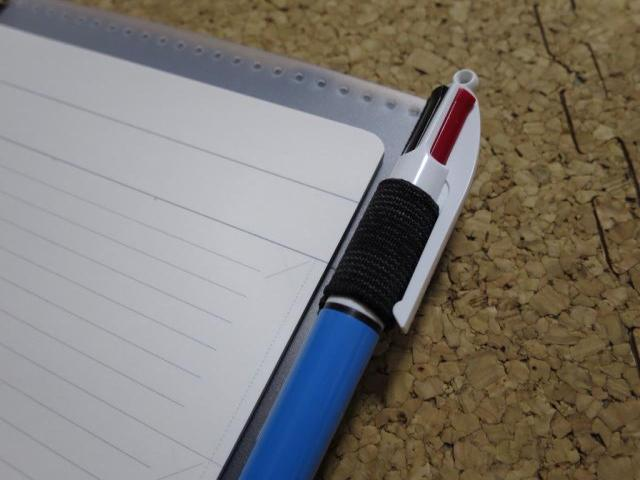PEN: (210, 35, 532, 480)
